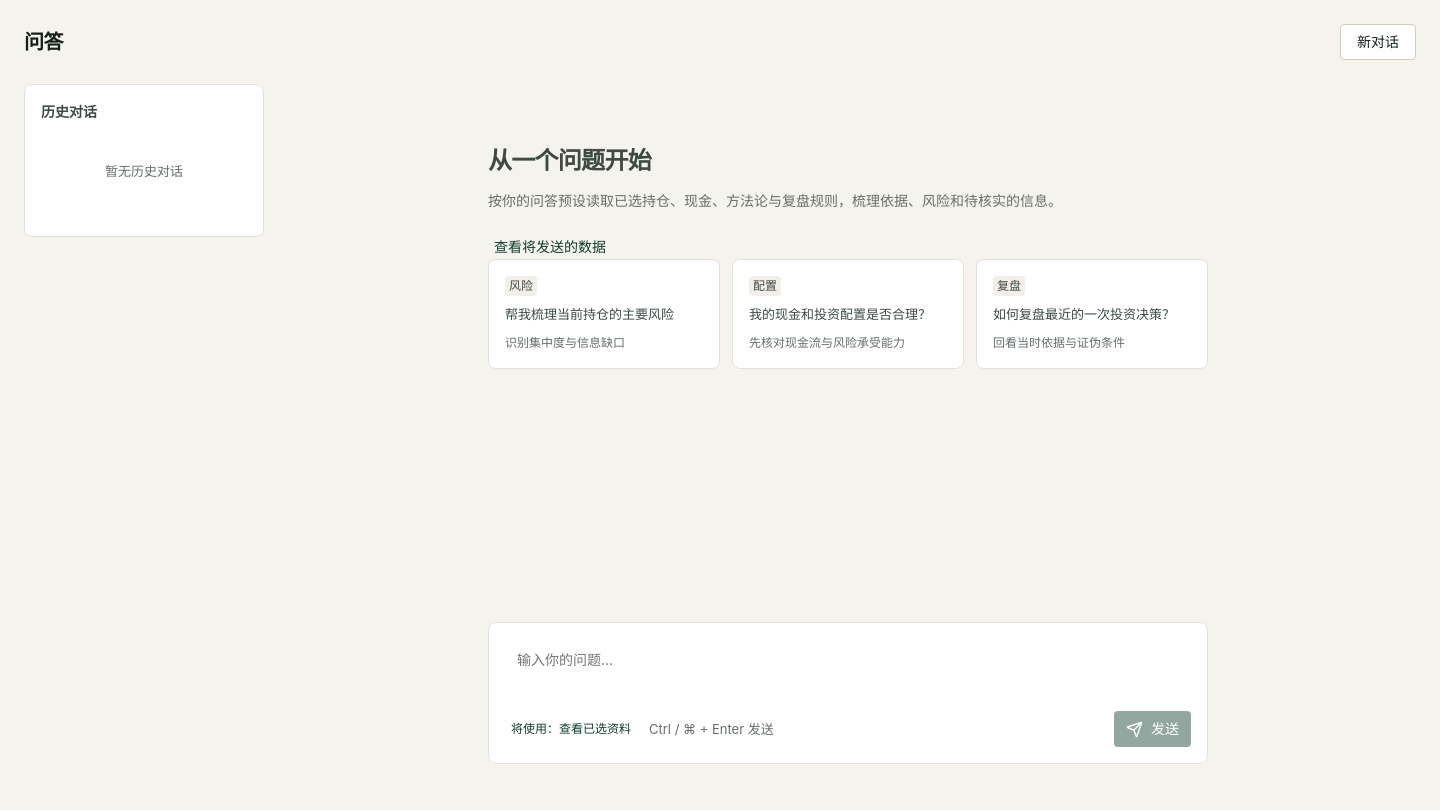
Test: stops while preparing data without starting a model request
Type "准备中的问题" into the text box named "输入问题".
click(848, 675); type("准备中的问题")  # box [505,639,1191,711]
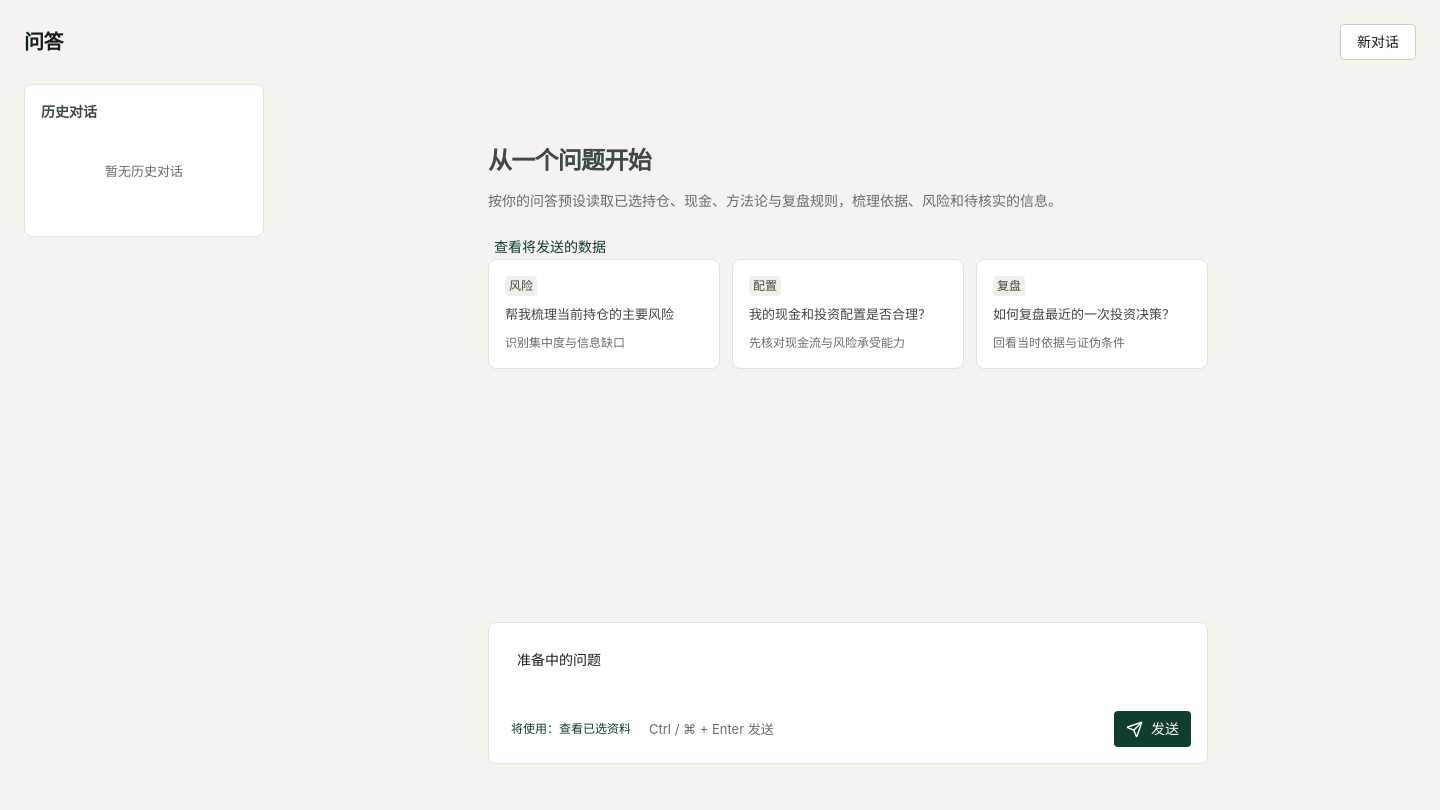
Click the button "发送".
click(1152, 729)  # box [1114,711,1191,747]
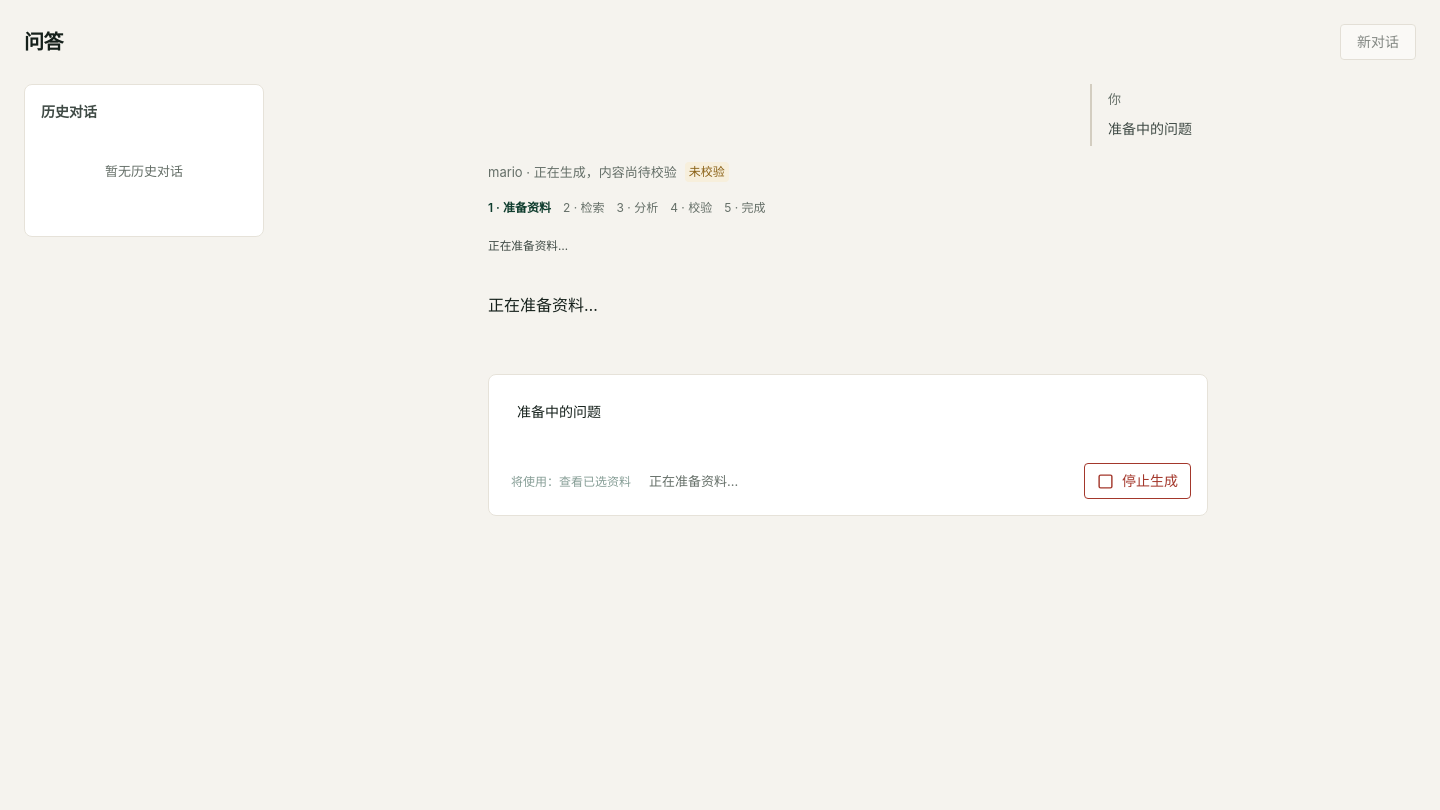
Click the button "停止生成".
click(1138, 481)  # box [1084,463,1191,499]
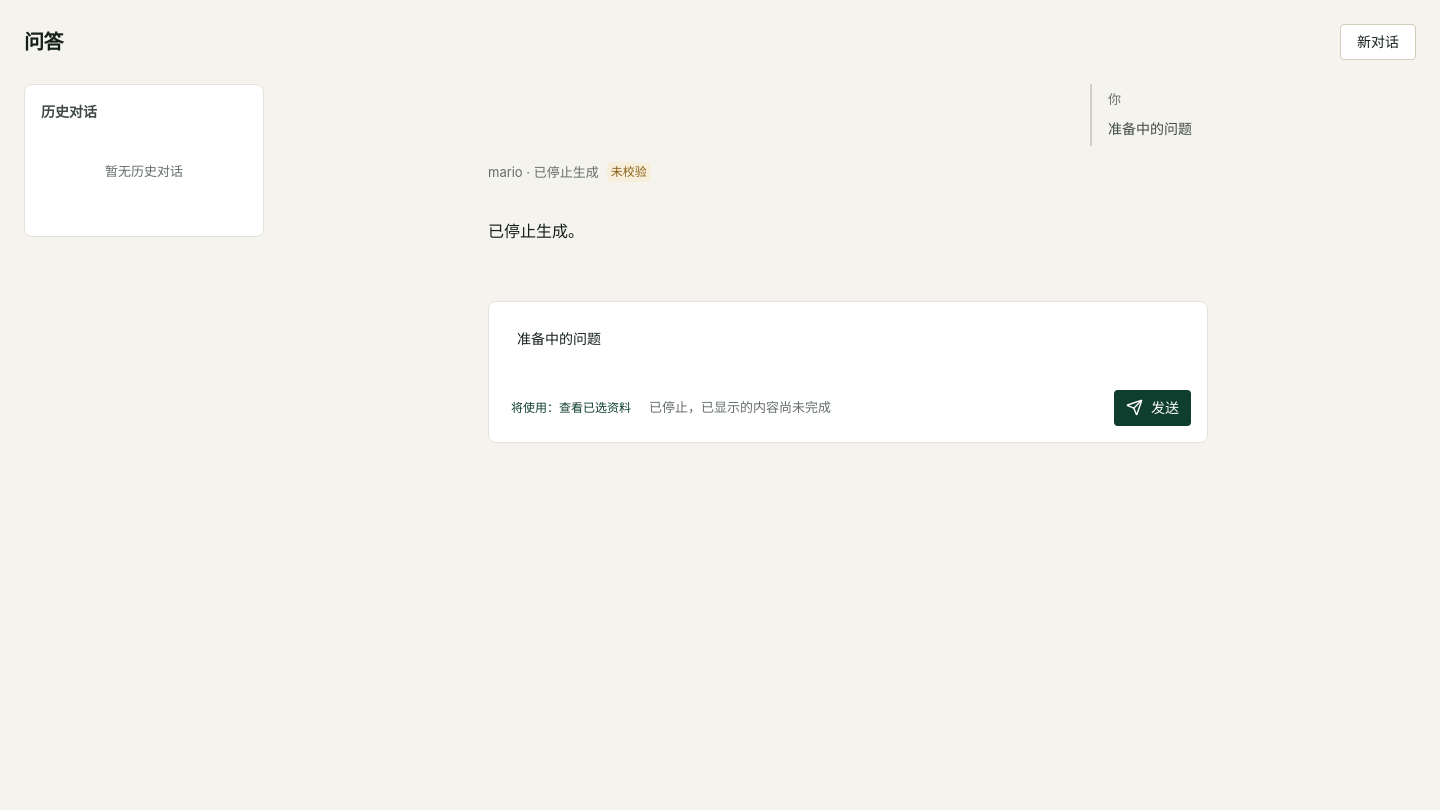
Check: the text box is enabled, box [505,318,1191,390]
